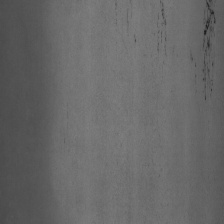inclusion: (200, 4, 219, 101), (112, 4, 139, 49), (153, 2, 171, 54), (186, 47, 198, 99)
